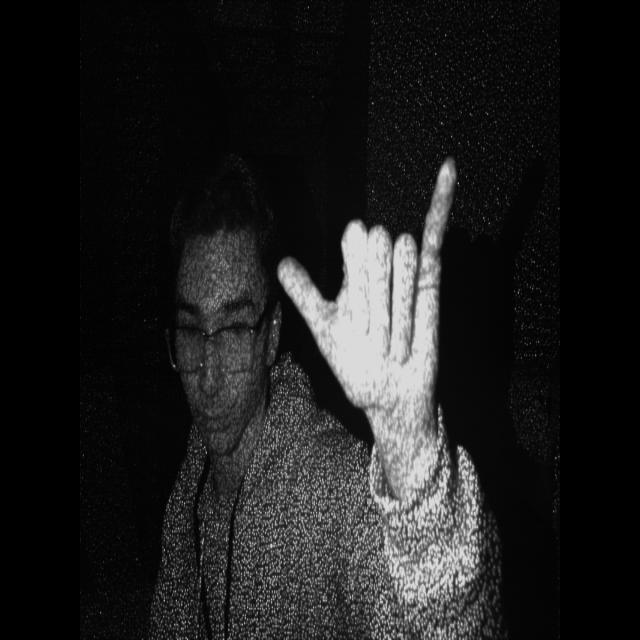Y: (265, 157, 468, 481)
